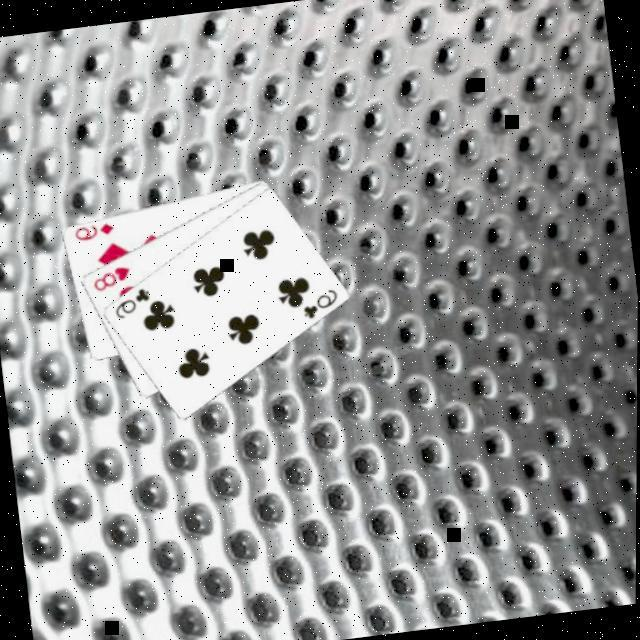6C: (109, 285, 155, 324), (297, 287, 343, 324)
8H: (88, 264, 135, 297)
9D: (72, 220, 118, 245)
